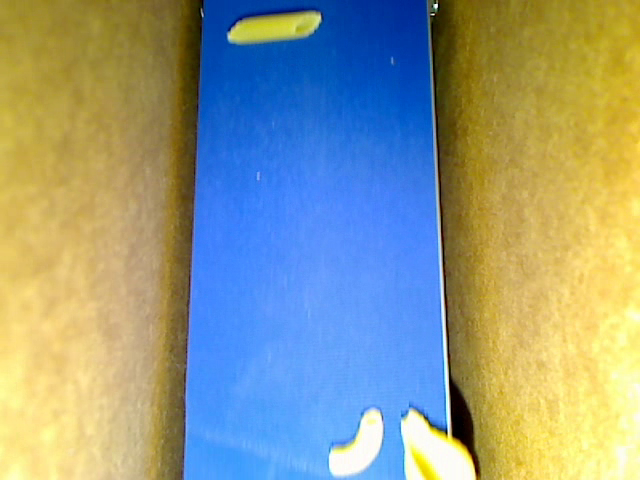elbow: (328, 407, 384, 475)
penne: (227, 11, 320, 43)
shell: (399, 405, 477, 479)
